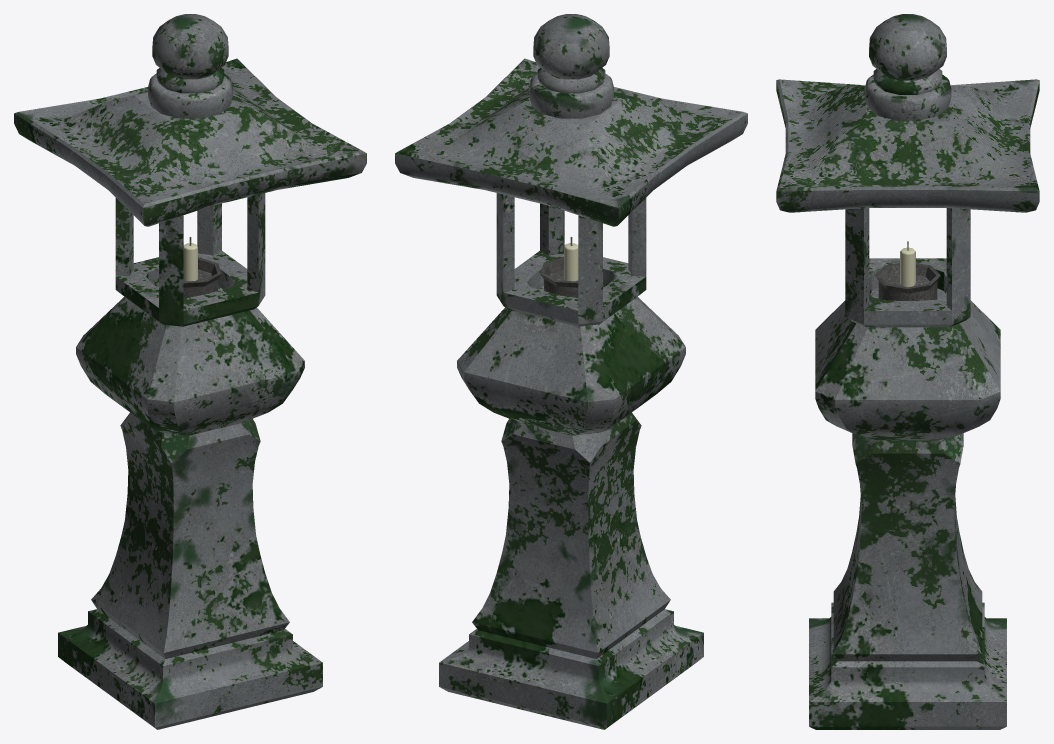
The model's file is stone_lantern.gltf.
The picture shows the model from 3 angles, left to right: view 1: azimuth 30°, elevation 25°; view 2: azimuth 150°, elevation 25°; view 3: azimuth 270°, elevation 25°; orthographic projection.
Visible parts, largest first — view 1: g; view 2: g; view 3: g.
Part boxes in pixels (box(x1,y1,x2,y2)): g: box(14, 14, 366, 729); g: box(395, 14, 747, 729); g: box(776, 14, 1039, 729).
Size of the model in its own units: 4.3 by 12.1 by 4.3.
Materials: 1 (1 with a texture image).
